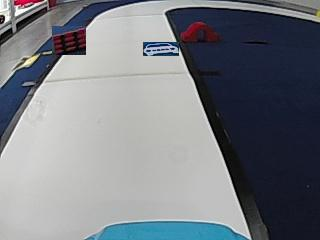bridge: (181, 20, 219, 42)
